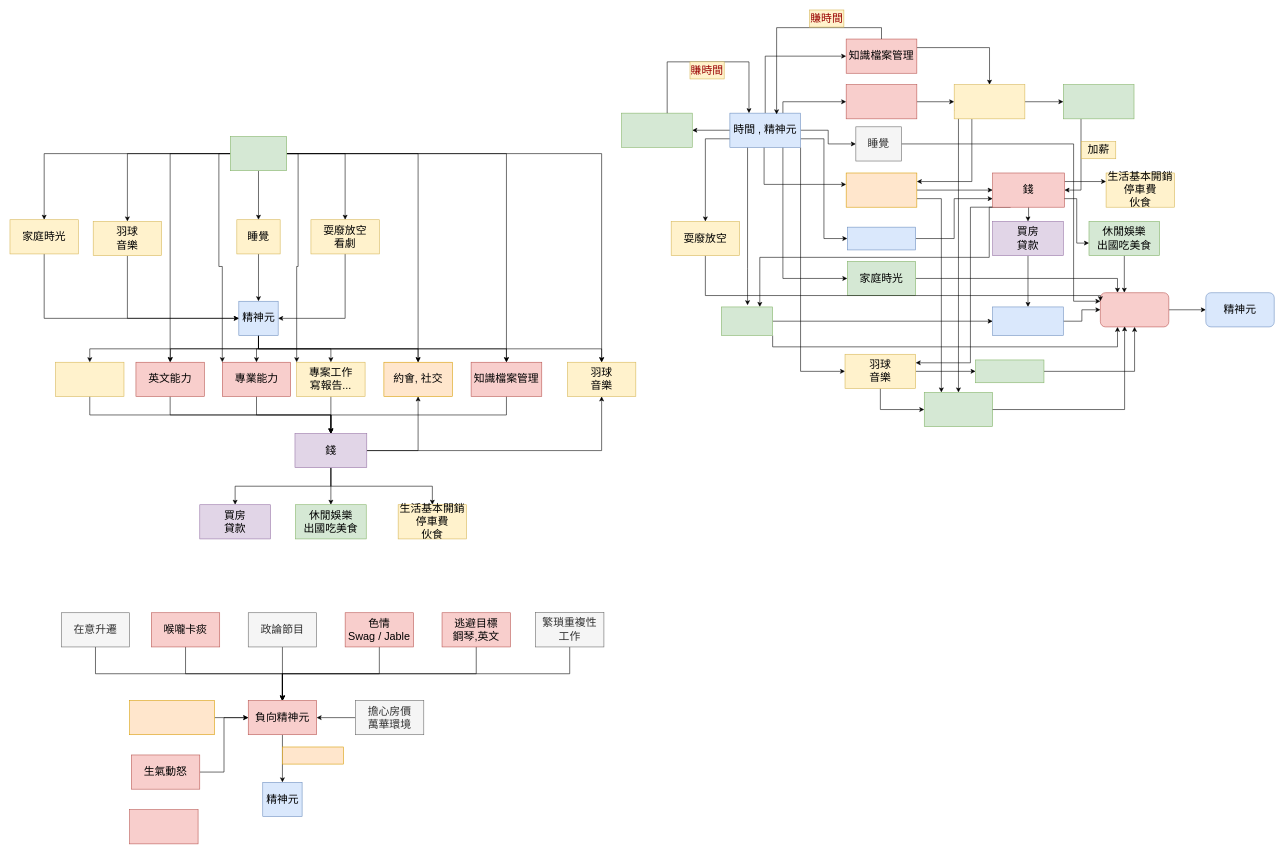
Image size: 1284x854. Some labels were removed from this diagram. The box of each missing label's shape, as (x1, y1, x2, y2) in pixels:
上班工作: (846, 172, 917, 207)
削弱神經元: (282, 746, 343, 764)
吃油膩的食物: (129, 809, 198, 844)
太晚睡, 熬夜 睡眠不足: (129, 700, 215, 735)
學英文 專業能力: (846, 84, 917, 119)
工作核心能力提升: (954, 84, 1025, 119)
幸福快樂: (1100, 292, 1169, 327)
情緒控管: (55, 362, 124, 396)
成就感: (924, 392, 993, 427)
投資理財 繼承: (847, 227, 916, 250)
換工作 穩定工作 升遷: (1063, 84, 1134, 119)
時間: (230, 136, 287, 171)
約會: (721, 306, 773, 335)
結婚生子: (992, 306, 1063, 335)
自動化程式 節省時間: (621, 113, 692, 147)
身心健康: (975, 359, 1044, 383)
